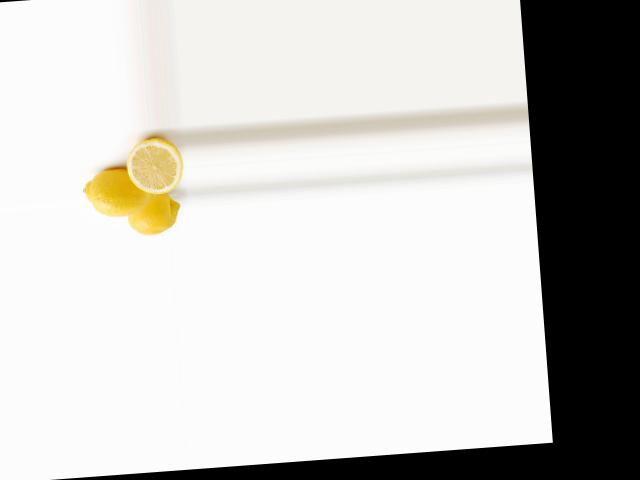lemon: (121, 189, 185, 238)
